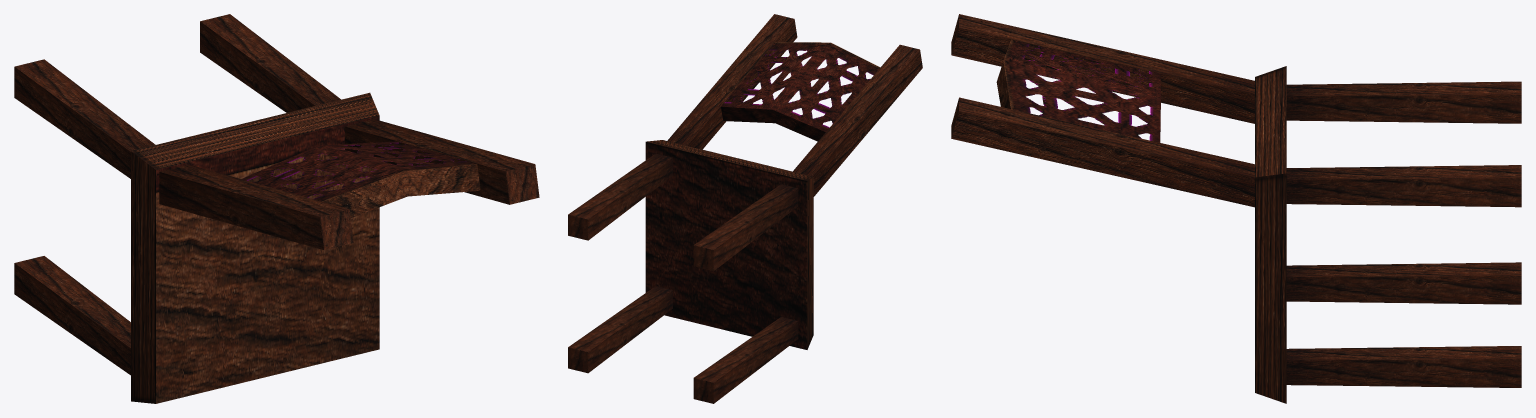
Rendered from mm9_deco_chairp270.glb.
3 views of the same model, side by side, from view 1: azimuth 30°, elevation 25°; view 2: azimuth 150°, elevation 25°; view 3: azimuth 270°, elevation 25° (orthographic). The views are drawn at different scales.
Visible parts, largest first — view 1: Chairp270; view 2: Chairp270; view 3: Chairp270.
Boxes of the visible parts, x1,y1,x2,y2 form: Chairp270: (14,14,539,403); Chairp270: (568,14,922,403); Chairp270: (951,14,1521,403).
Bounding box in the file's own units: 0.6517 × 0.8163 × 1.46.
Materials: 1 (1 with a texture image).
